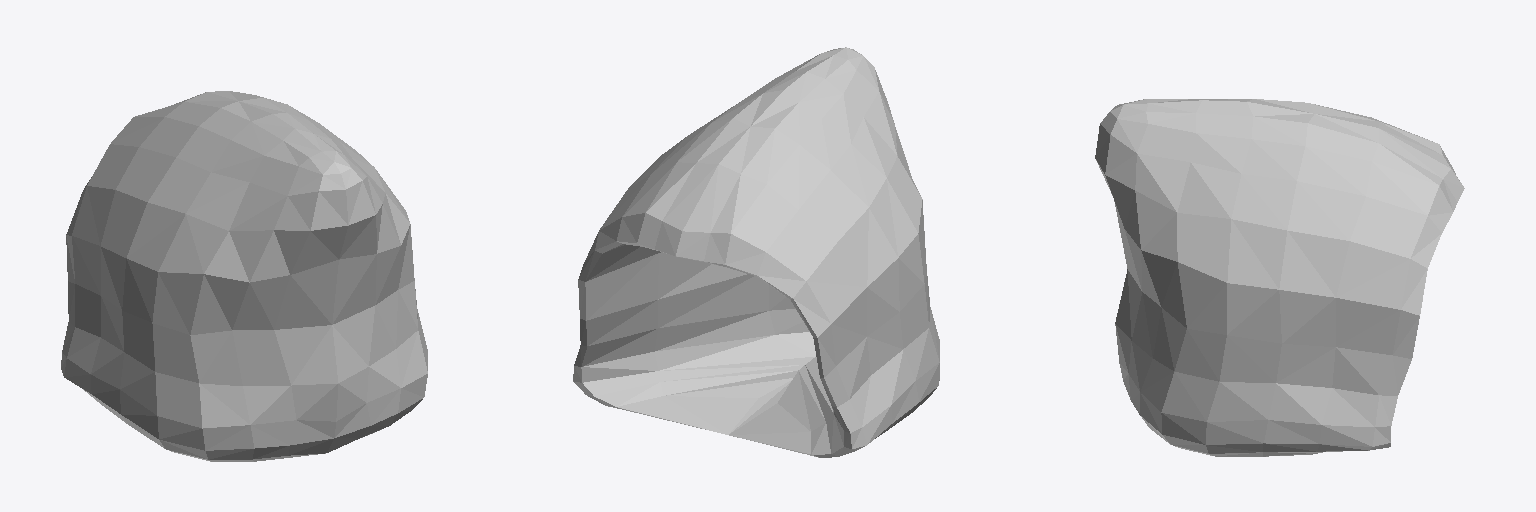
File: joshyhat.obj
3 renders of one model, left to right at view 1: azimuth 30°, elevation 25°; view 2: azimuth 150°, elevation 25°; view 3: azimuth 270°, elevation 25°, orthographic.
Parts seen in each view (by area): view 1: Sub2joshh1; view 2: Sub2joshh1; view 3: Sub2joshh1.
Boxes of the visible parts, box(x1,y1,x2,y2) form: Sub2joshh1: box(61, 91, 427, 461); Sub2joshh1: box(573, 47, 939, 457); Sub2joshh1: box(1095, 99, 1464, 456).
Bounding box in the file's own units: 1.77 × 1.81 × 1.94.